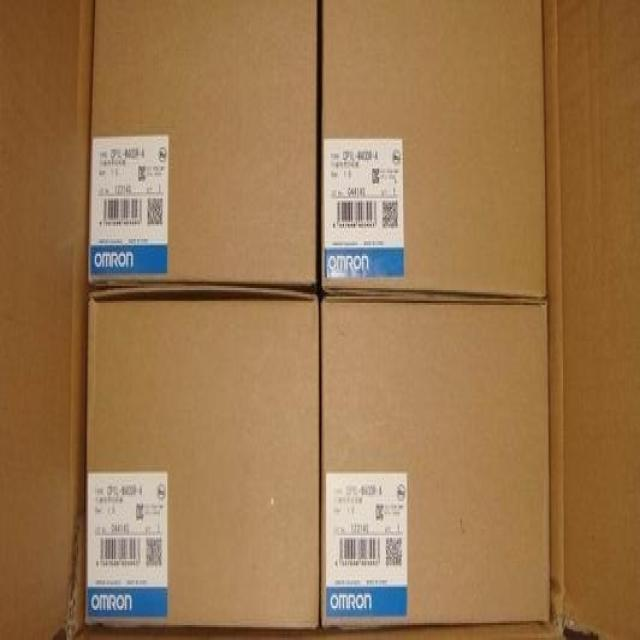box: (84, 284, 320, 631), (321, 292, 550, 629), (321, 0, 546, 299), (87, 0, 318, 288)
